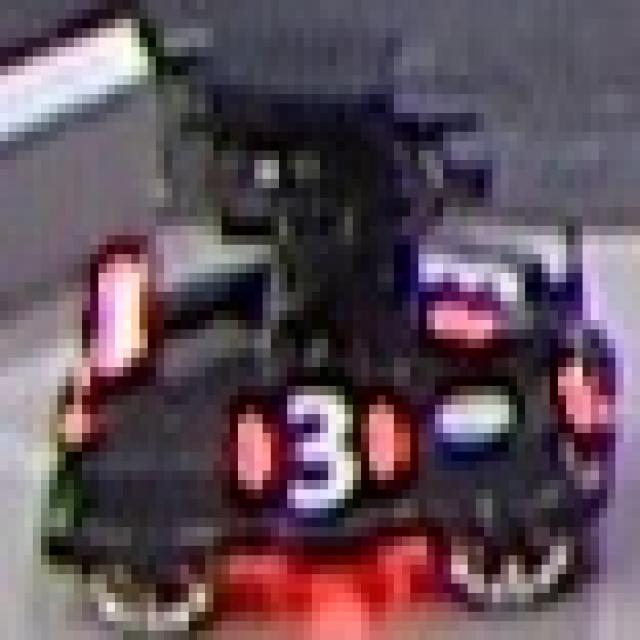R3: (230, 358, 410, 518), (378, 226, 534, 348)
